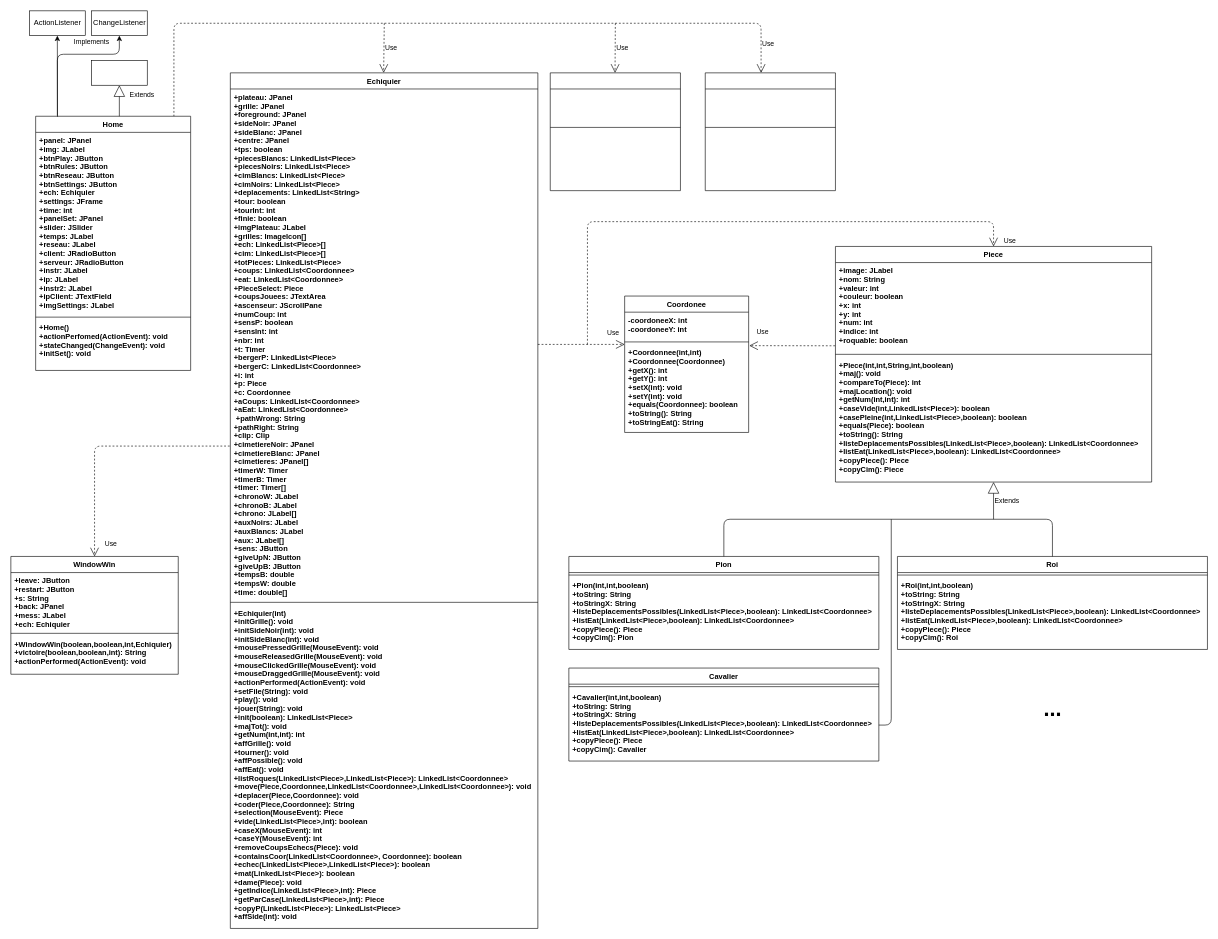
This 1218x939 diagram has some shape labels left out. Here are the shapes that lost their labels. From the top down, the centre of each, then its label:
(x=119, y=72): JFrame
(x=615, y=131): EchiquierClient
(x=770, y=131): EchiquierServeur
